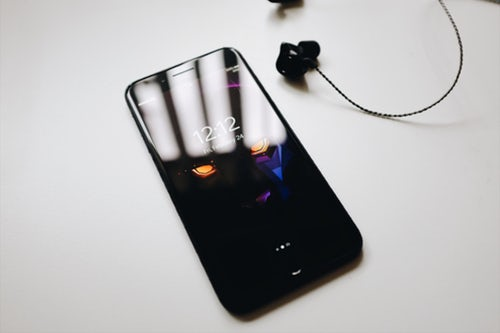phone: (124, 44, 364, 322)
